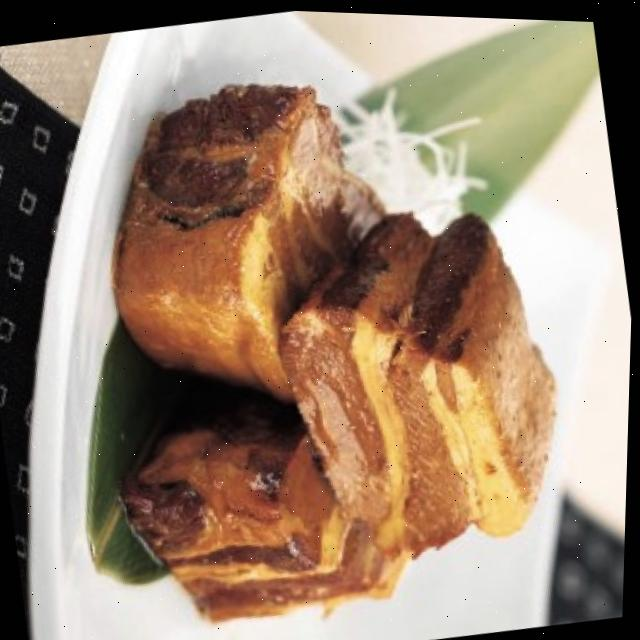猪肉菜式: (11, 1, 622, 640)
